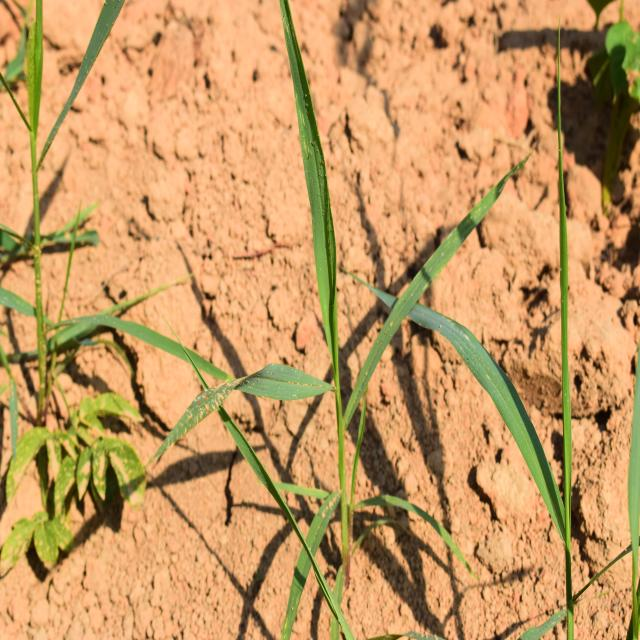green_foxtail: (194, 42, 442, 594)
